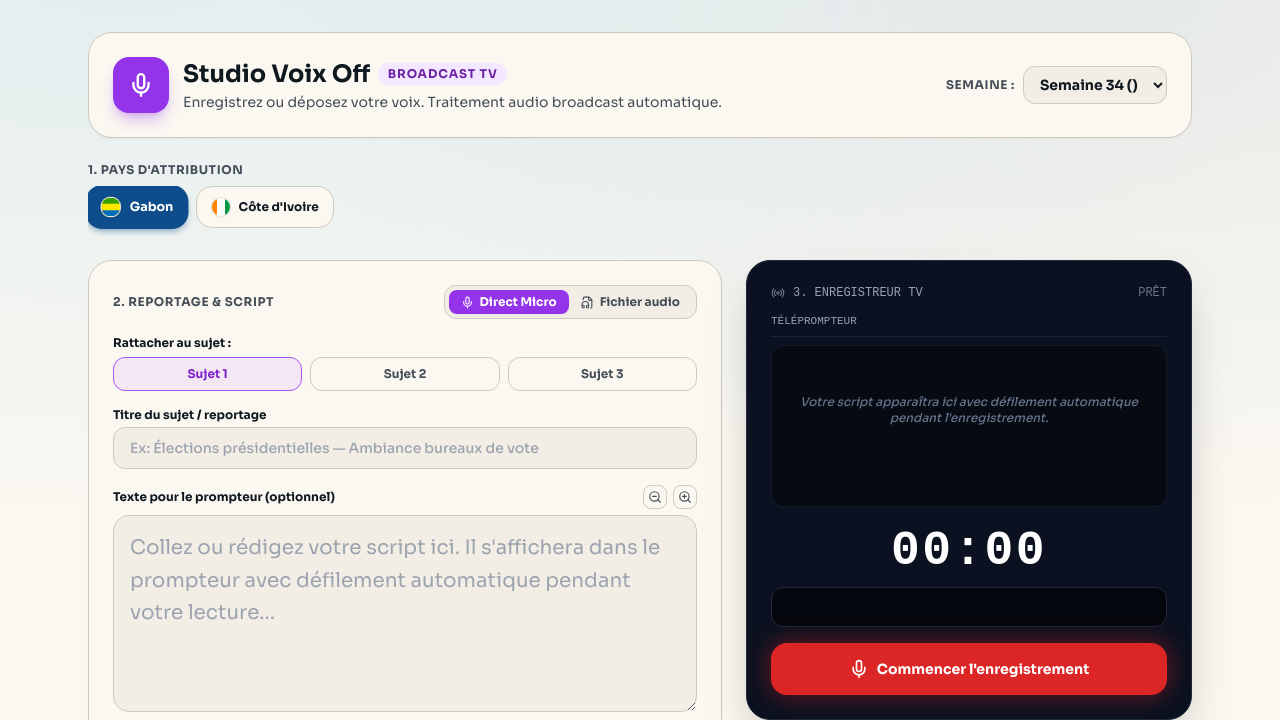
Test case: VoixOffView › switches to file upload mode (montage)
Click the button "Fichier audio" at (630, 302), box [569,290,692,314]
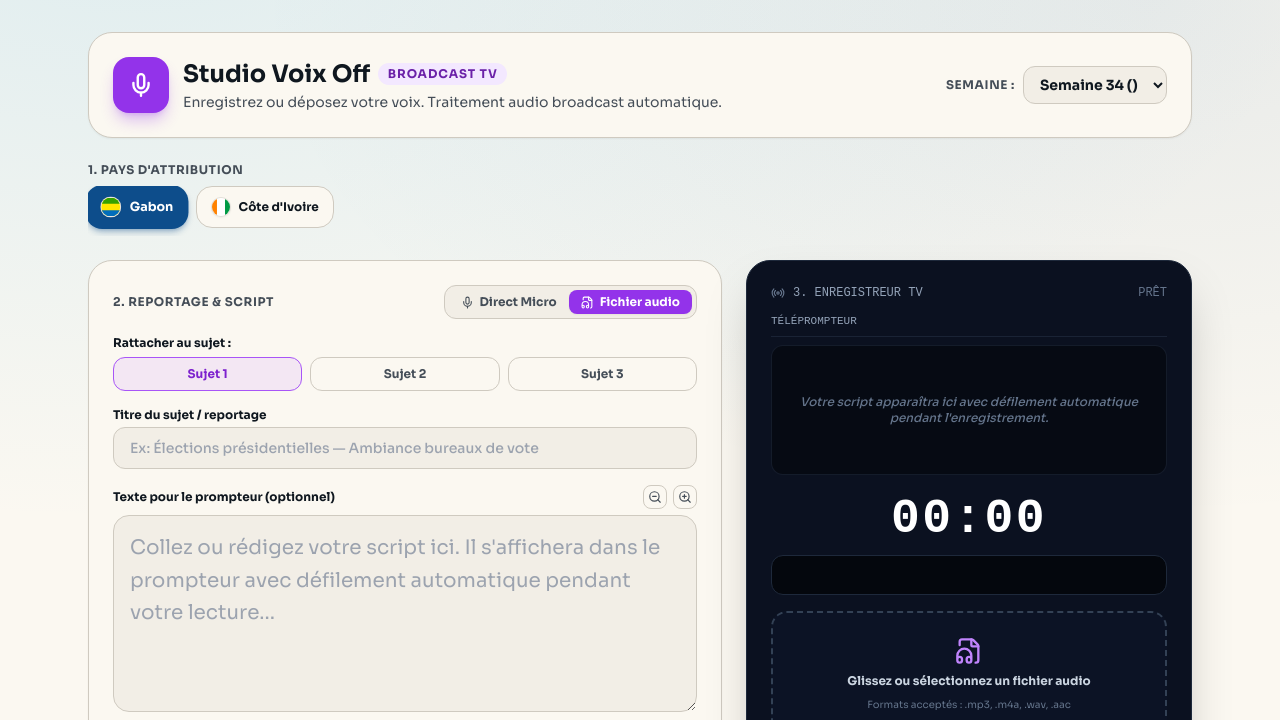
Result: the text "Glissez ou sélectionnez un fichier audio" is shown at [847,672,1091,688]
